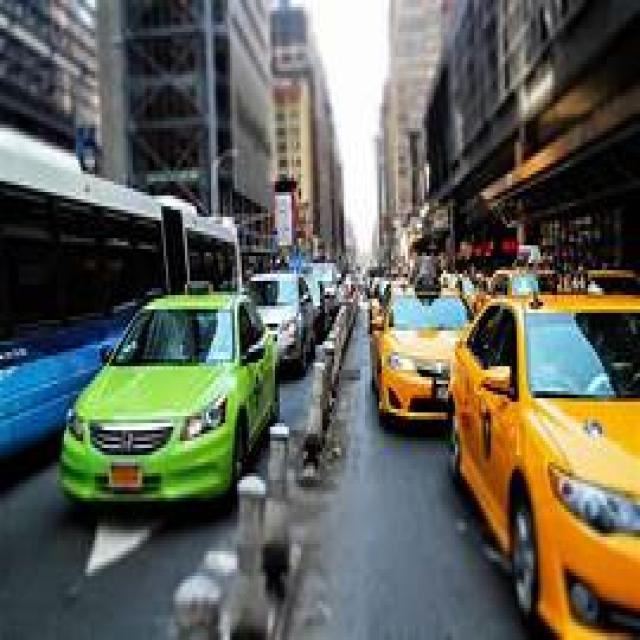Bus: (1, 128, 239, 458)
Car: (371, 294, 640, 638), (60, 276, 313, 502)
